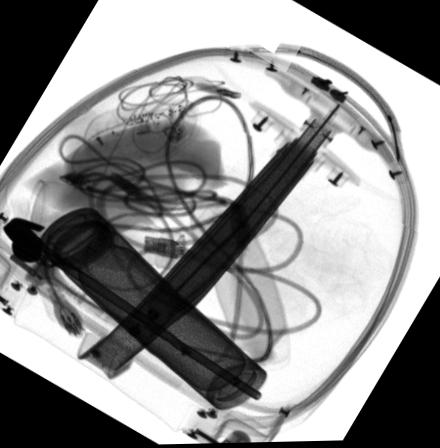Hammer: (1, 216, 260, 401)
